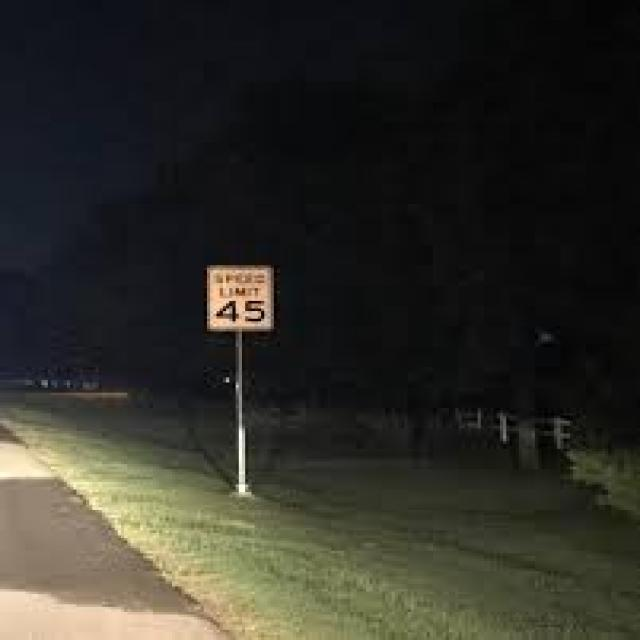speedLimit45: (208, 266, 278, 328)
